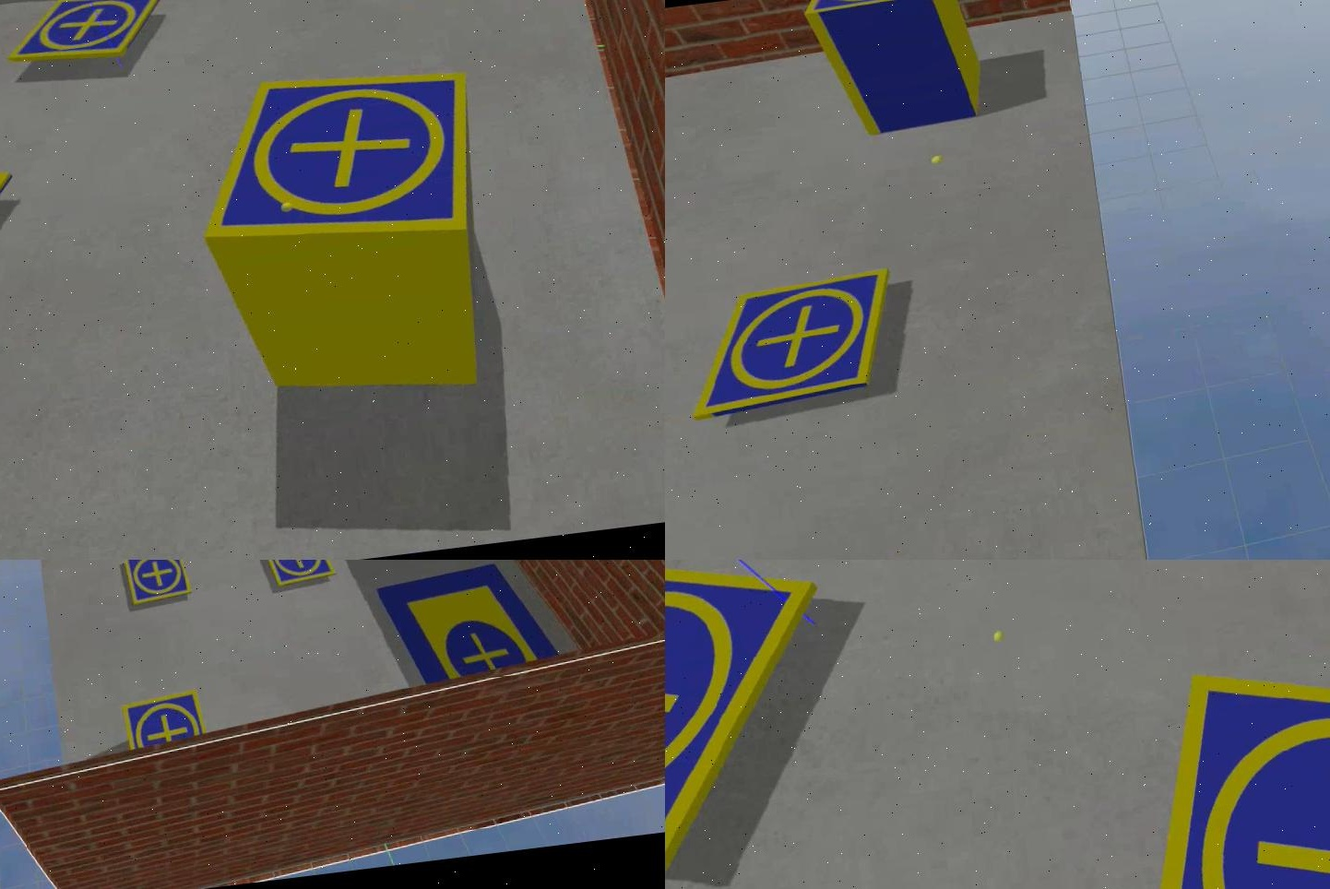large_base: (374, 561, 561, 690)
small_base: (185, 59, 484, 262), (663, 561, 849, 886), (1120, 634, 1328, 889), (675, 266, 901, 421), (4, 1, 165, 71), (119, 691, 204, 751), (121, 561, 191, 606), (799, 1, 936, 19), (259, 561, 335, 590)
